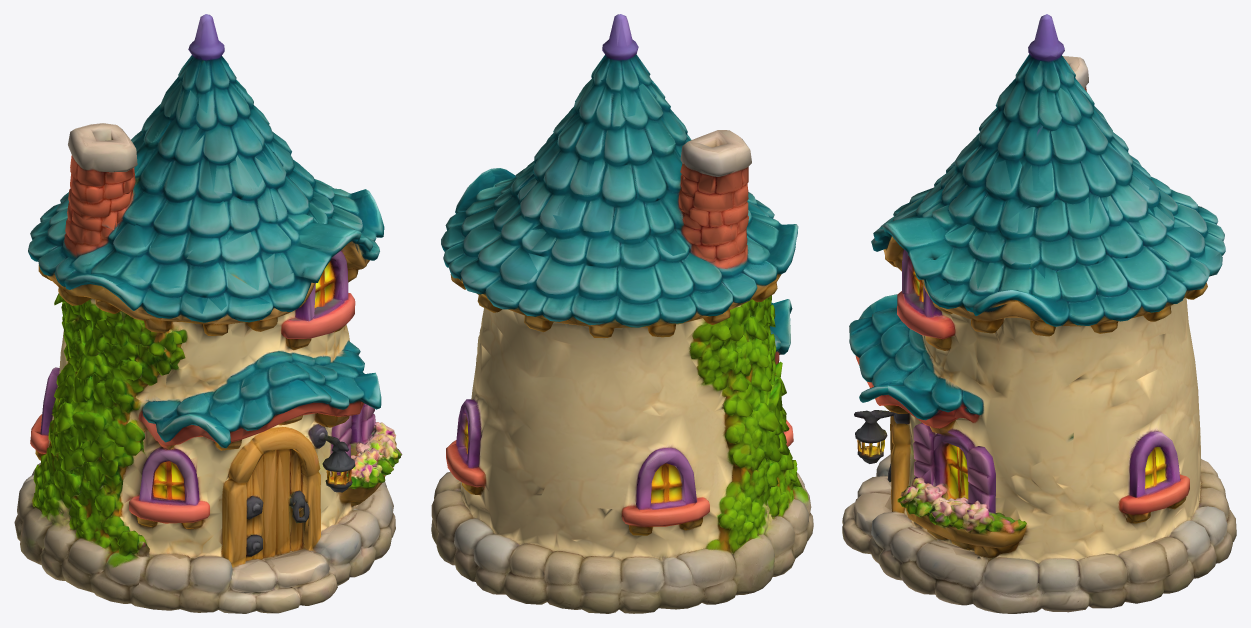
File: house2.glb
The picture shows the model from 3 angles, left to right: view 1: azimuth 30°, elevation 25°; view 2: azimuth 150°, elevation 25°; view 3: azimuth 270°, elevation 25°; orthographic projection.
Parts seen in each view (by area): view 1: Mesh_0; view 2: Mesh_0; view 3: Mesh_0.
Part boxes in pixels (left/top/right/bottom): Mesh_0: left=14, top=14, right=402, bottom=613; Mesh_0: left=431, top=14, right=813, bottom=613; Mesh_0: left=842, top=14, right=1236, bottom=613.
Size of the model in its own units: 1.25 by 1.9 by 1.3.
1 material, 1 textured.
